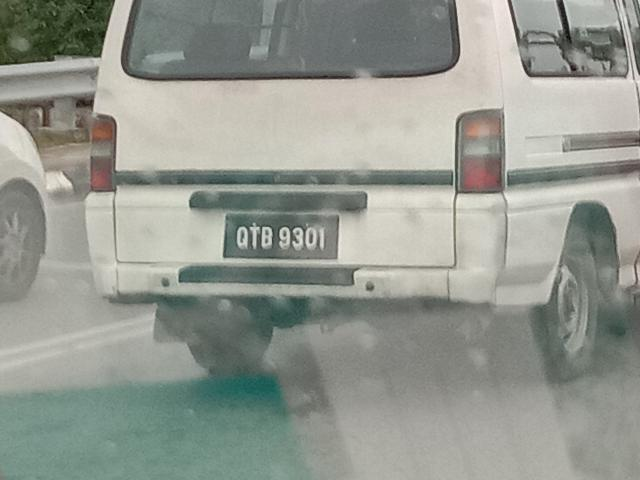License_Plate: (226, 213, 341, 262)
van: (75, 2, 640, 383)
